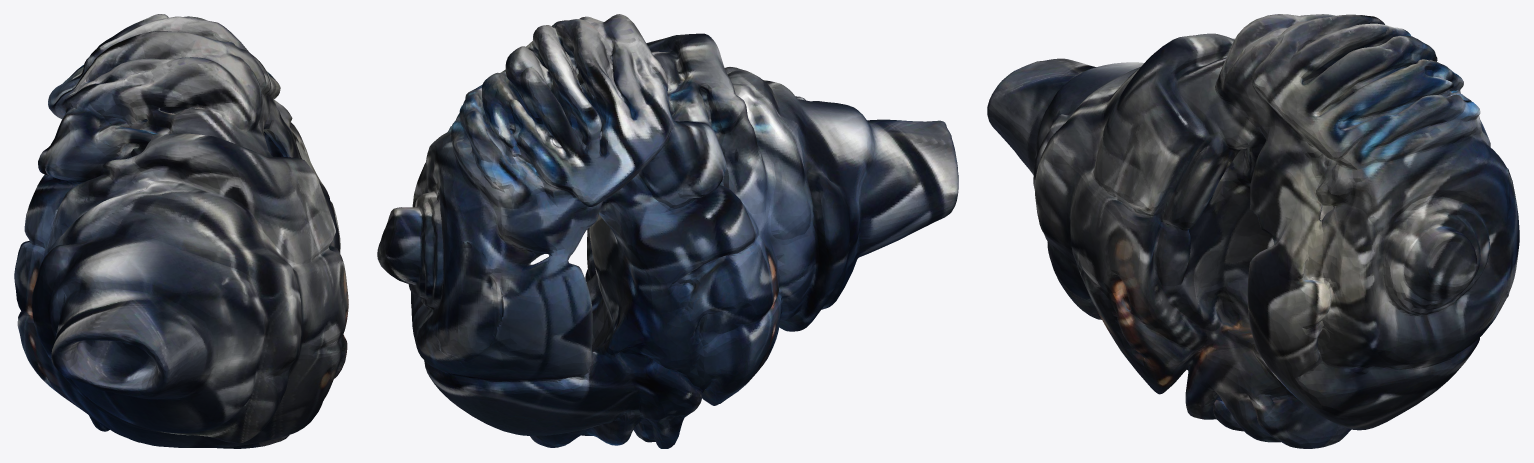
The model's file is drone_ship_core.glb.
The picture shows the model from 3 angles, left to right: view 1: azimuth 30°, elevation 25°; view 2: azimuth 150°, elevation 25°; view 3: azimuth 270°, elevation 25°; orthographic projection. The views are drawn at different scales.
Size of the model in its own units: 1.74 by 1.69 by 1.99.
1 material, 1 textured.
